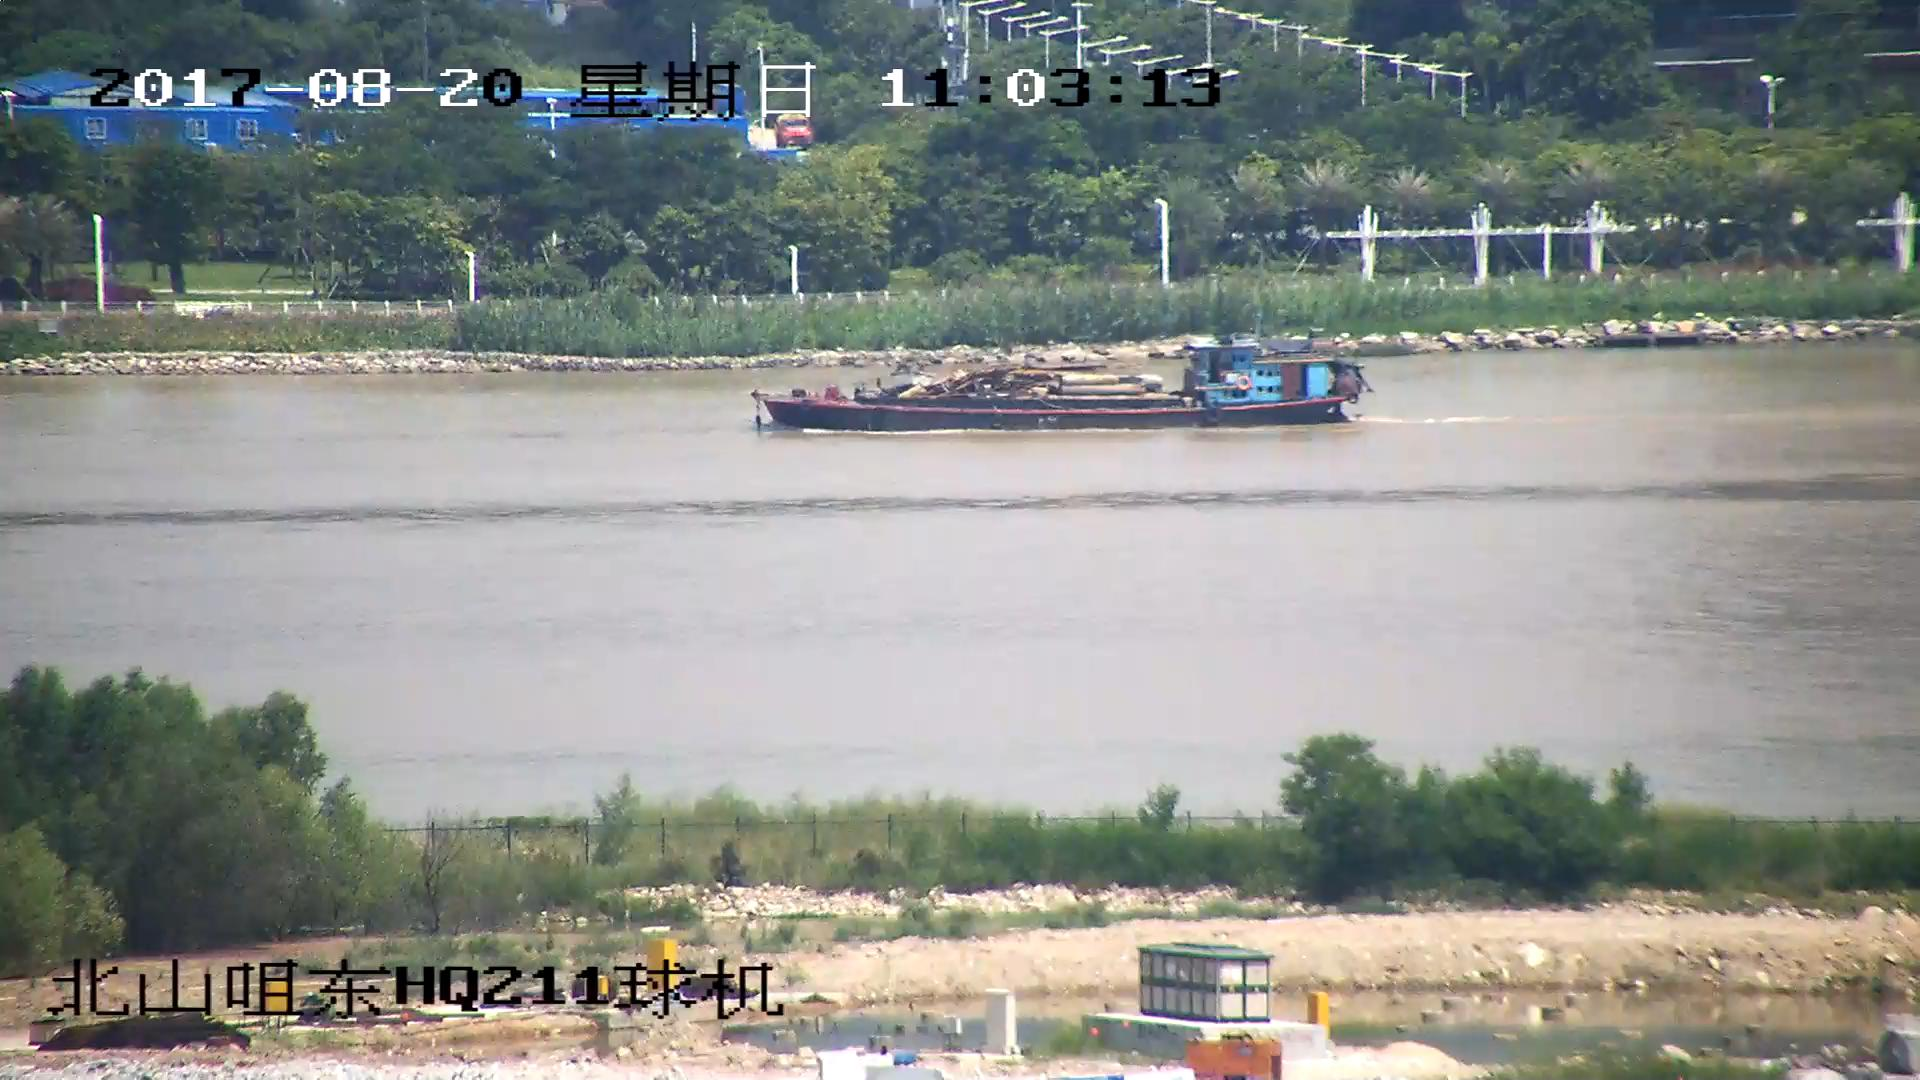bulk cargo carrier: (751, 343, 1372, 434)
